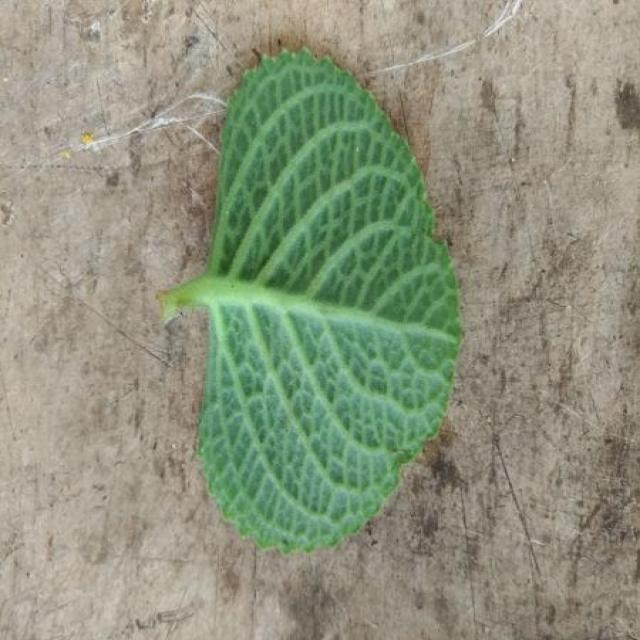doddpathre: (162, 50, 460, 551)
